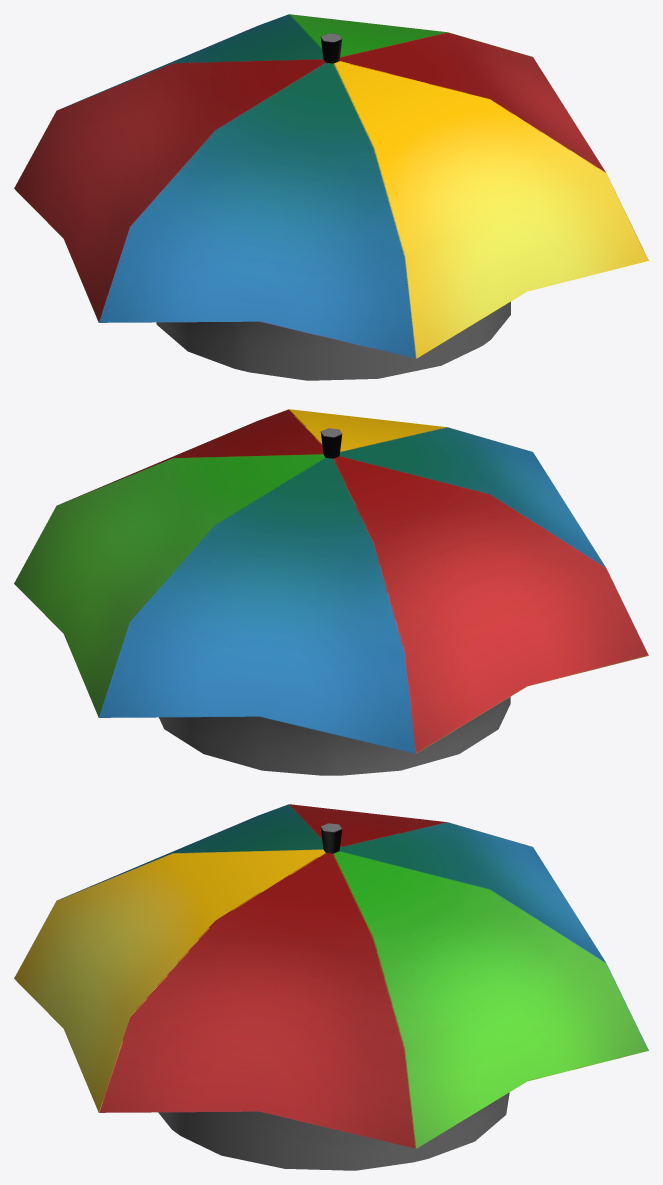
Rendered from m_UmbrellaHat01.obj.
3 renders of one model, top to bottom at view 1: azimuth 30°, elevation 25°; view 2: azimuth 150°, elevation 25°; view 3: azimuth 270°, elevation 25°, orthographic.
Visible parts, largest first — view 1: m_UmbrellaHat01_mat_UmbrellaHat01; view 2: m_UmbrellaHat01_mat_UmbrellaHat01; view 3: m_UmbrellaHat01_mat_UmbrellaHat01.
Part boxes in pixels (x1,y1,x2,y2): m_UmbrellaHat01_mat_UmbrellaHat01: (14,14,648,380); m_UmbrellaHat01_mat_UmbrellaHat01: (14,409,648,775); m_UmbrellaHat01_mat_UmbrellaHat01: (14,804,648,1170).
Bounding box in the file's own units: 0.7883 × 0.3659 × 0.7879.
1 material, 1 textured.
